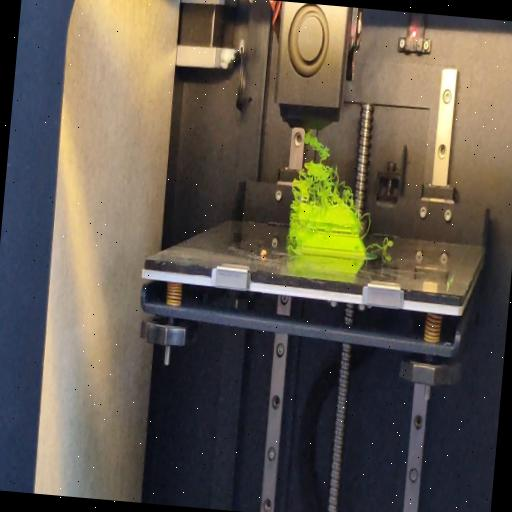spaghetti: (292, 133, 364, 205), (366, 236, 398, 254), (358, 206, 372, 240), (284, 243, 298, 253)
